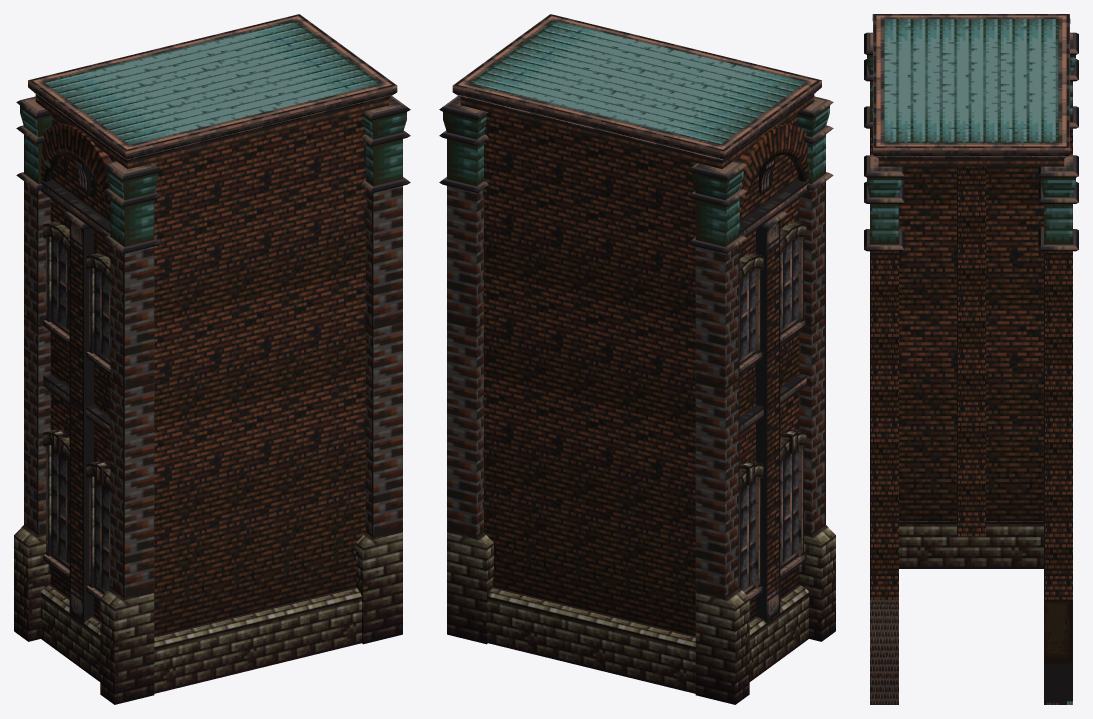
Rendered from EnvBdgMD_Factory_B_Outdoor_Tower_A.FBX.
The picture shows the model from 3 angles, left to right: view 1: azimuth 30°, elevation 25°; view 2: azimuth 150°, elevation 25°; view 3: azimuth 270°, elevation 25°; orthographic projection.
Parts seen in each view (by area): view 1: EnvBdgMD_Factory_B_Outdoor_Tower_A; view 2: EnvBdgMD_Factory_B_Outdoor_Tower_A; view 3: EnvBdgMD_Factory_B_Outdoor_Tower_A.
Part boxes in pixels (x1=…): EnvBdgMD_Factory_B_Outdoor_Tower_A: x1=14, y1=14, x2=410, y2=704; EnvBdgMD_Factory_B_Outdoor_Tower_A: x1=439, y1=14, x2=835, y2=704; EnvBdgMD_Factory_B_Outdoor_Tower_A: x1=864, y1=14, x2=1078, y2=704.
Bounding box in the file's own units: 590 × 1055 × 370.
